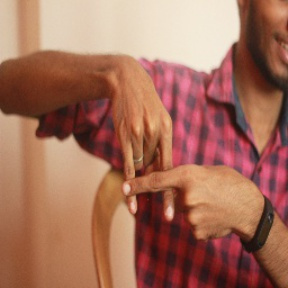H: (106, 121, 183, 221)
